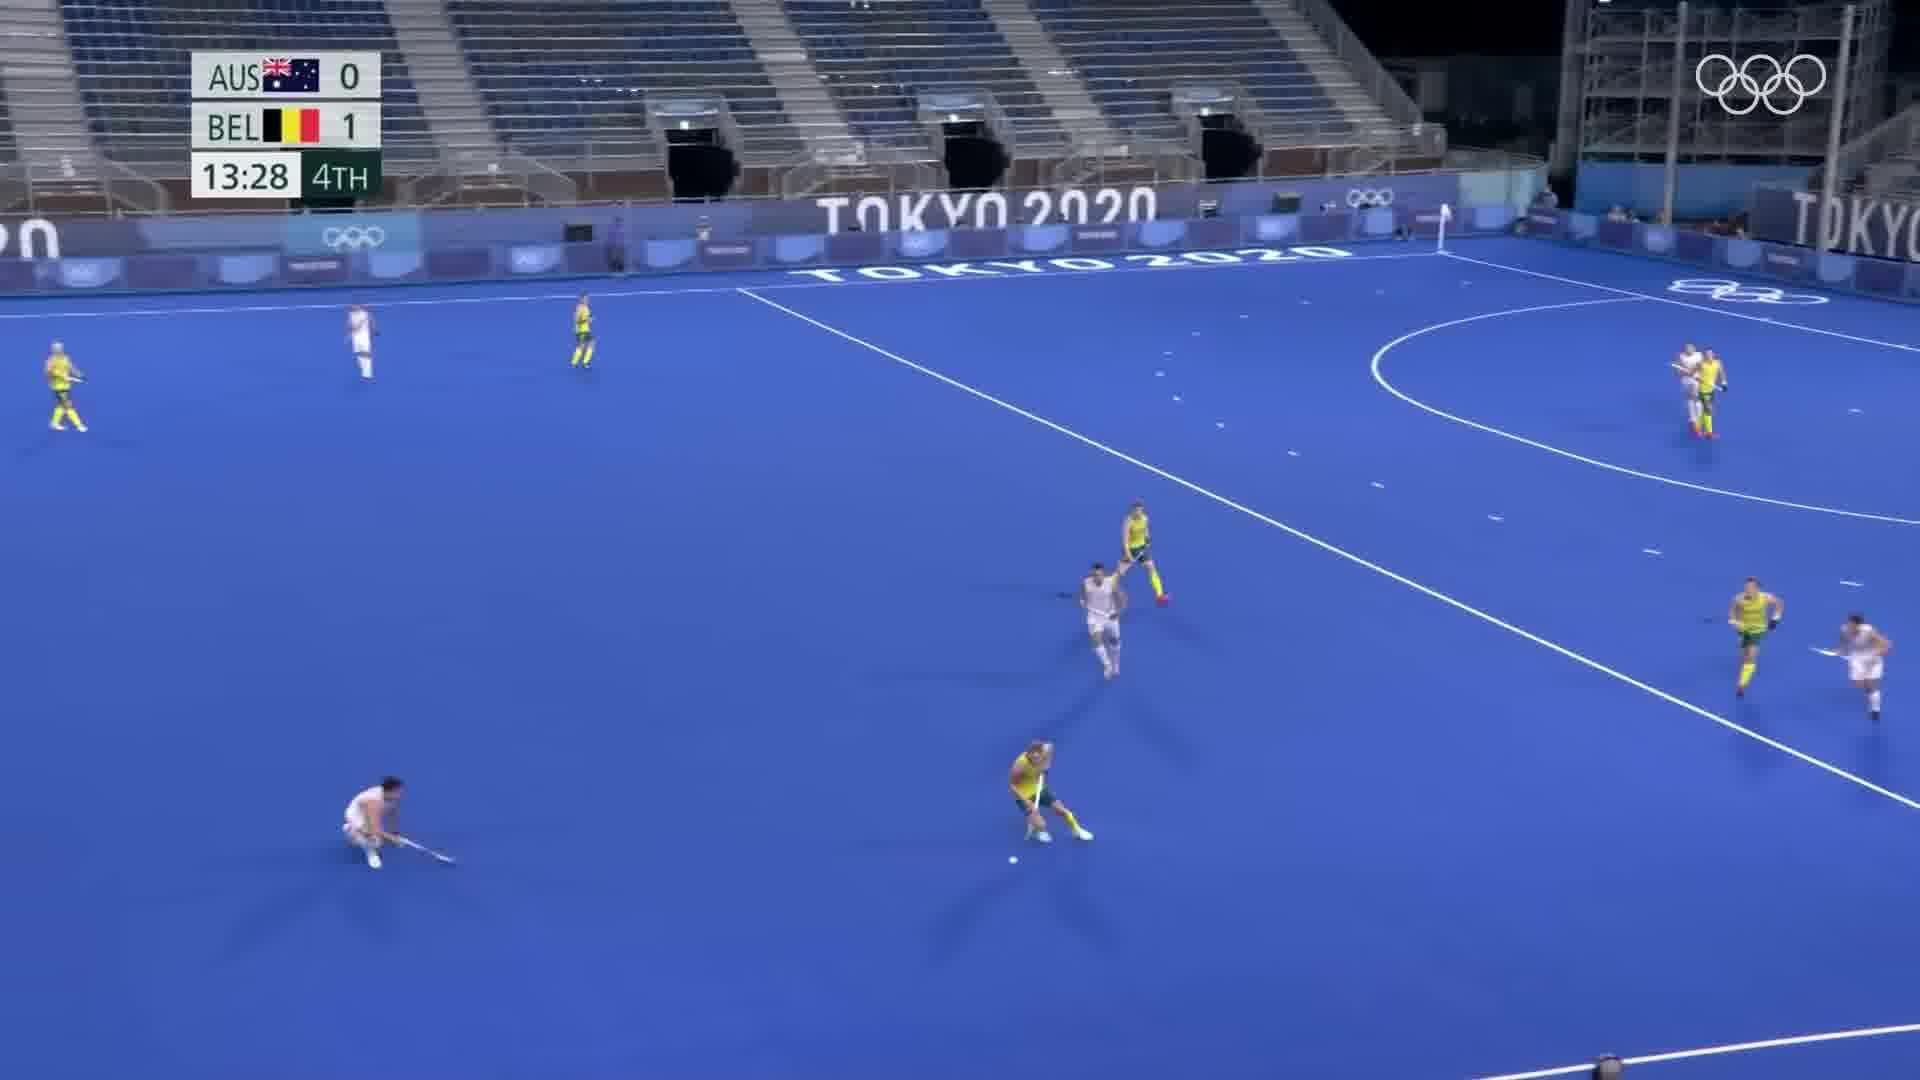ball: (1000, 845, 1036, 874)
